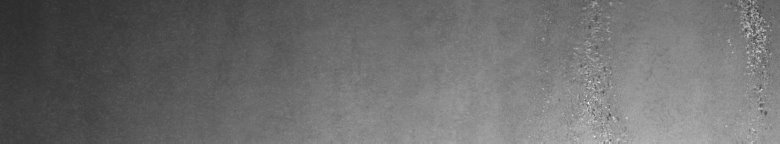hc: (725, 4, 774, 136)
